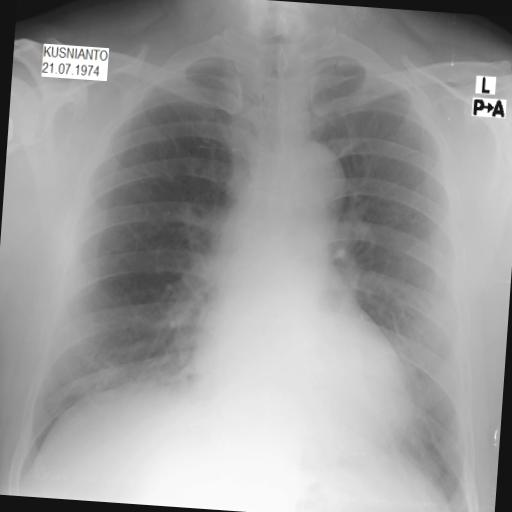kardiomegali: (7, 13, 512, 510)
